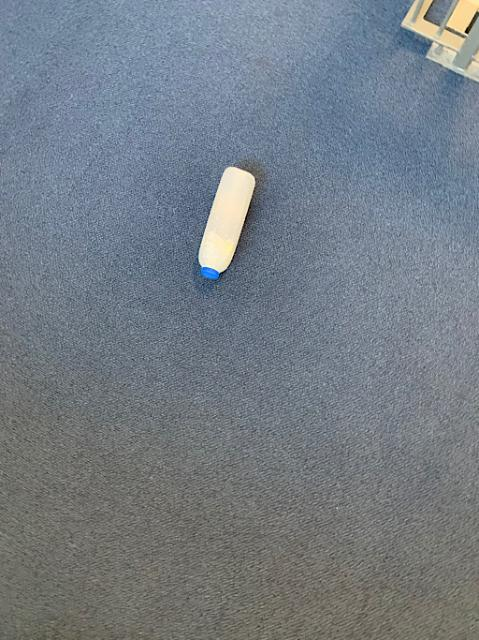plastic: (198, 166, 254, 277)
